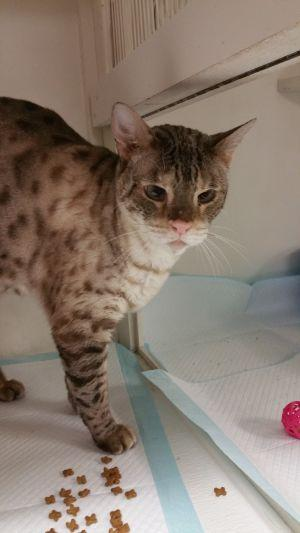bengal: (106, 95, 254, 273)
